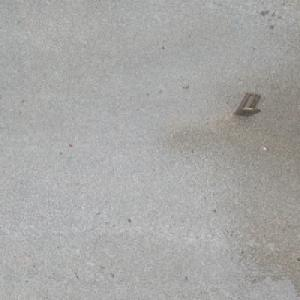MetalPart: (232, 92, 262, 117)
